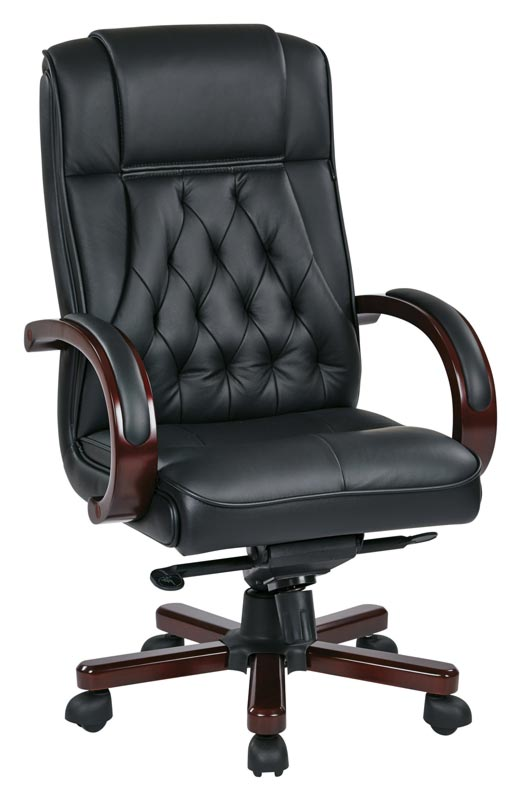chairs: (14, 26, 497, 779)
